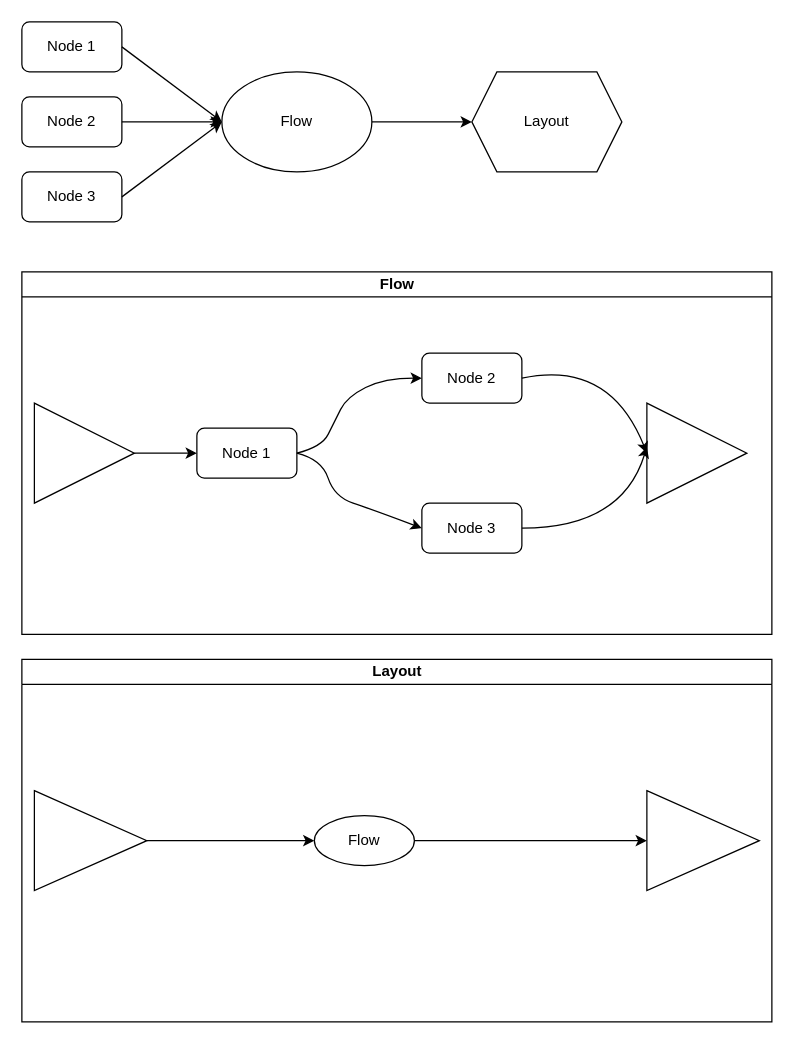
Image size: 794x1044. Some labels were removed from this diagram. Here are the shapes that lost their labels. From the top down, the centre of each, then its label:
(x=83, y=452): Input args
(x=696, y=452): Output
(x=90, y=840): Http input
(x=702, y=840): Http output
